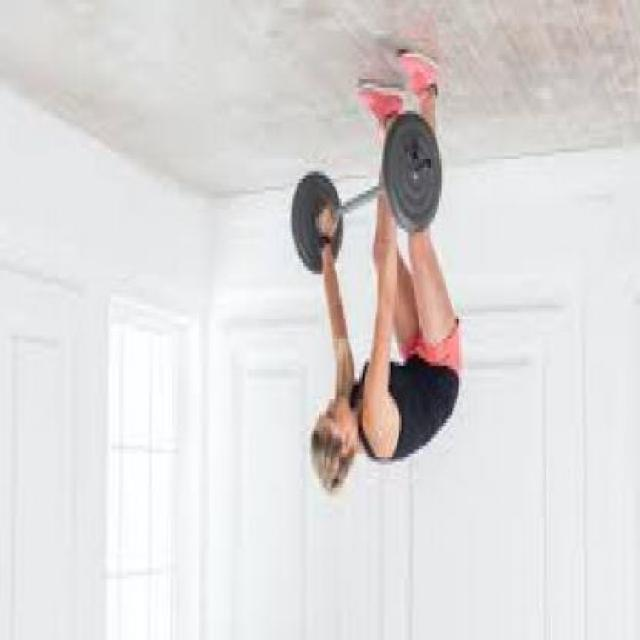Barbell: (424, 156, 434, 173)
